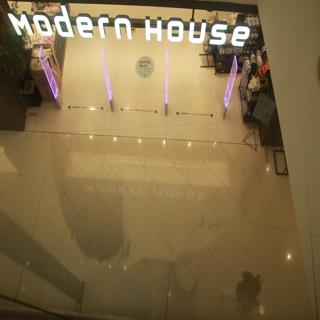person: (235, 263, 266, 317)
